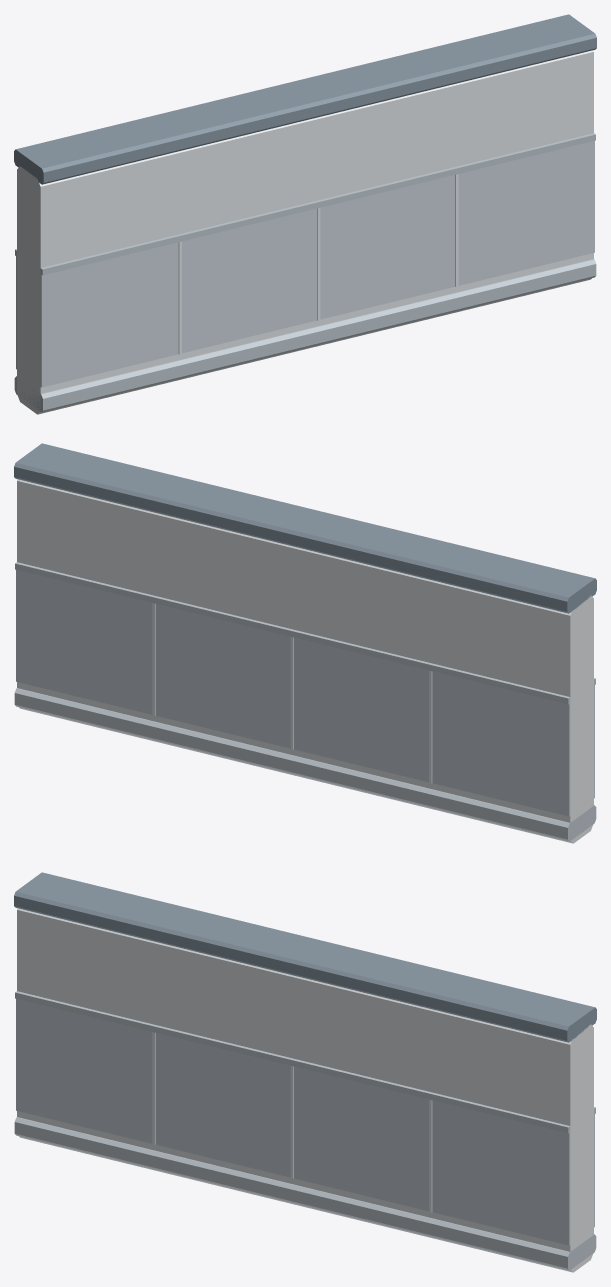
The model's file is wall_school_observatory.glb.
3 renders of one model, top to bottom at view 1: azimuth 30°, elevation 25°; view 2: azimuth 150°, elevation 25°; view 3: azimuth 330°, elevation 25°, orthographic.
Parts seen in each view (by area): view 1: Part_005, Part_001, Part_002, Part_003, Part_013; view 2: Part_004, Part_001, Part_002, Part_003, Part_012; view 3: Part_005, Part_001, Part_002, Part_003, Part_013.
Boxes of the visible parts, <box> form: Part_005: <box>40,141,594,387</box>; Part_001: <box>17,50,593,414</box>; Part_002: <box>14,14,596,184</box>; Part_003: <box>14,259,596,412</box>; Part_013: <box>40,133,595,275</box>; Part_004: <box>16,570,570,816</box>; Part_001: <box>17,479,593,843</box>; Part_002: <box>14,443,596,613</box>; Part_003: <box>14,688,596,841</box>; Part_012: <box>15,562,570,704</box>; Part_005: <box>16,999,570,1245</box>; Part_001: <box>17,908,593,1272</box>; Part_002: <box>14,872,596,1042</box>; Part_003: <box>14,1117,596,1270</box>; Part_013: <box>15,991,570,1133</box>.
Bounding box in the file's own units: 2.7 × 1.16 × 0.25.
